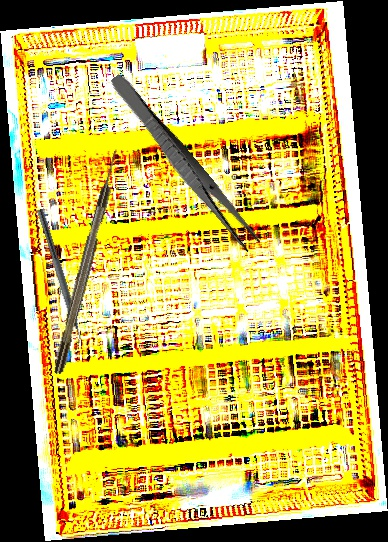Chopper: (27, 208, 89, 353)
Dressing Forceps: (104, 71, 263, 254)
Hook Surgical: (51, 147, 123, 375)
